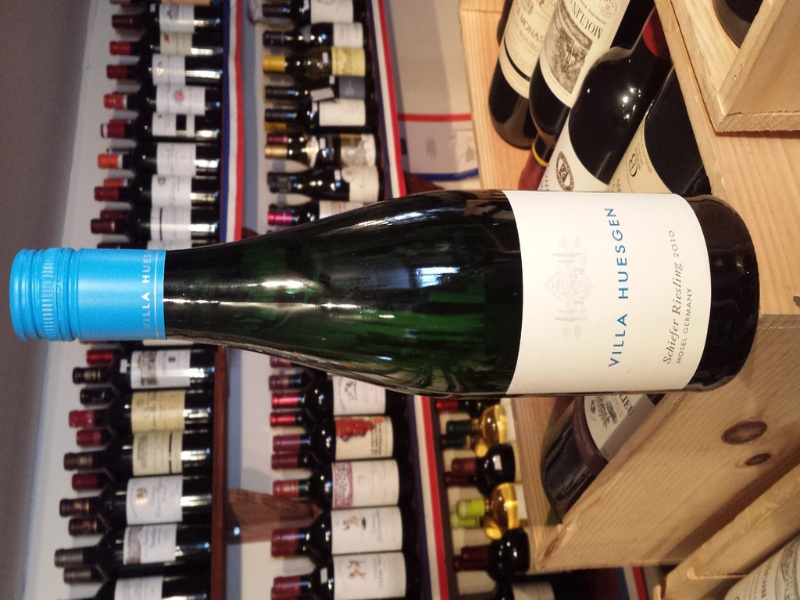wine: (36, 1, 763, 600), (10, 183, 764, 399)
